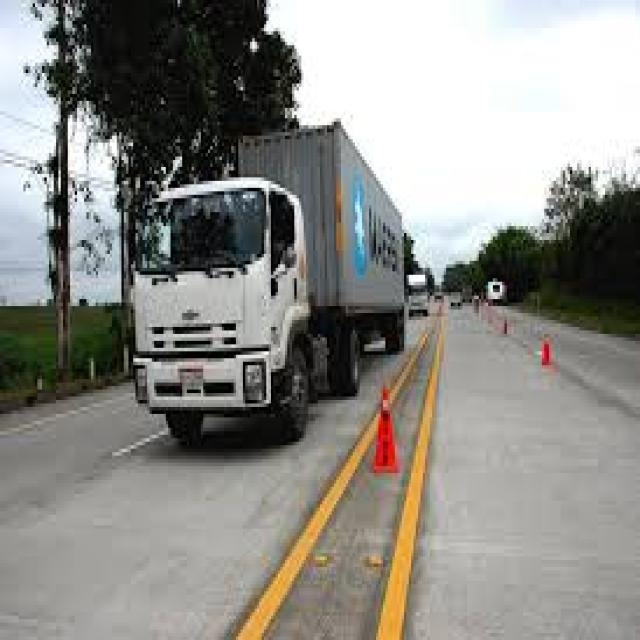TRUCK: (128, 132, 407, 452)
